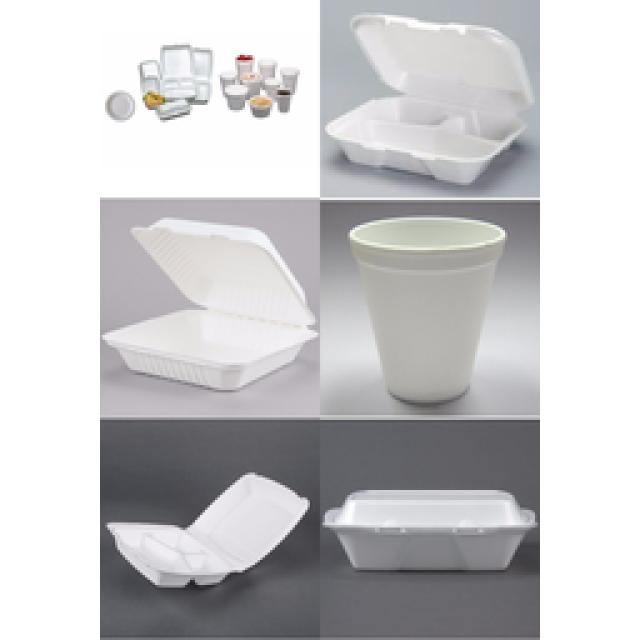styrofoam: (102, 218, 315, 390), (328, 15, 530, 182), (108, 472, 308, 585), (325, 490, 532, 568)
